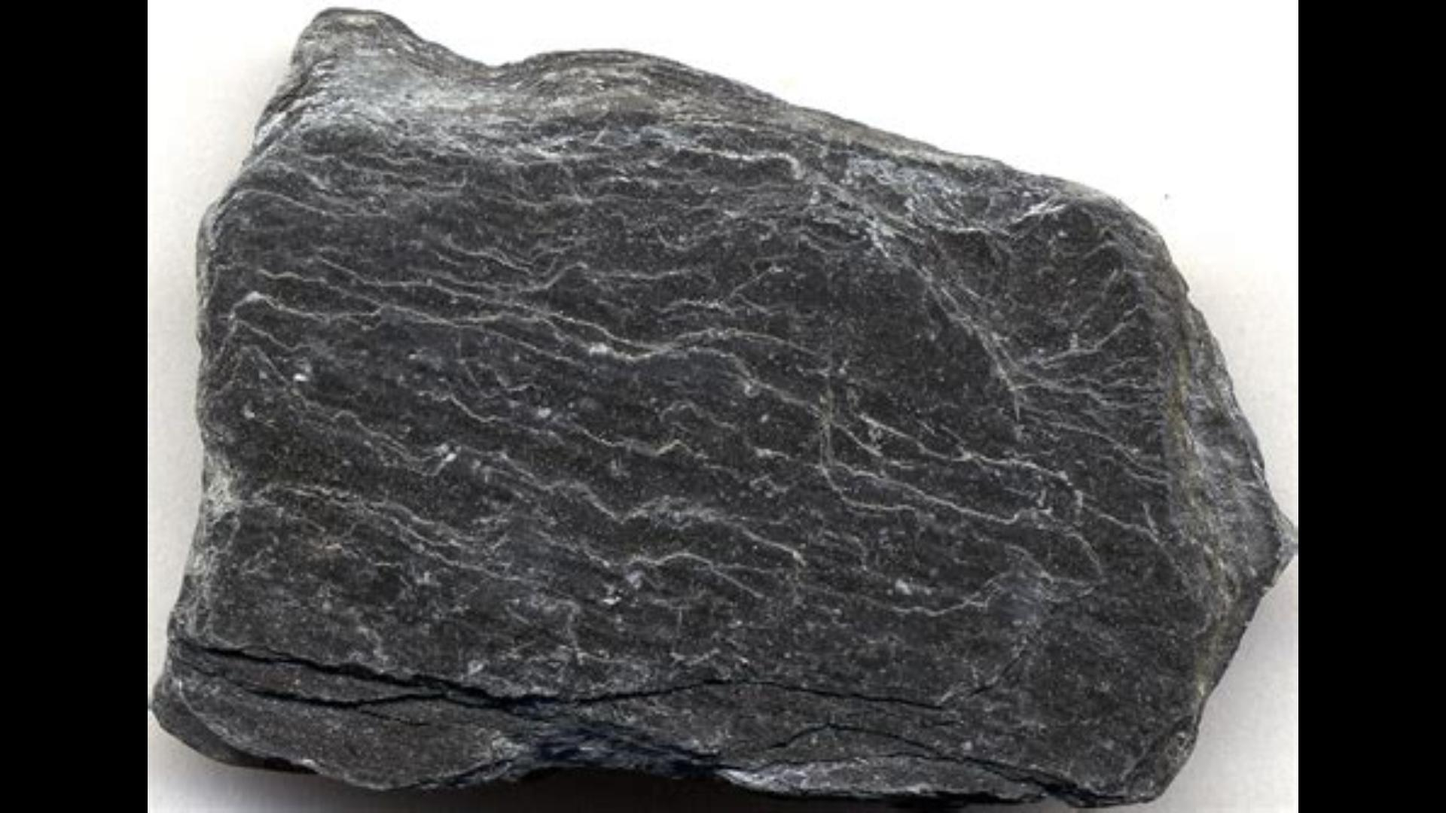rock: (155, 15, 1289, 803)
